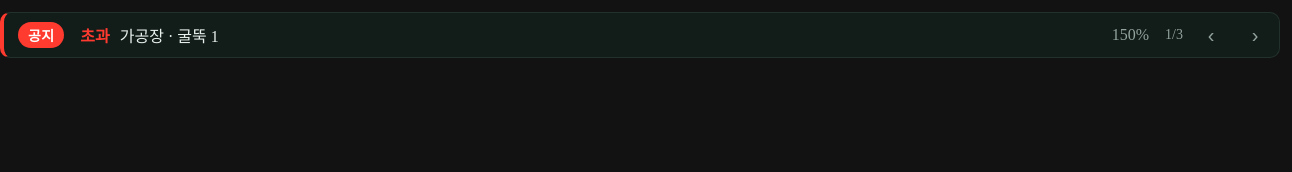
Test: 롤링 배너 › 움직임 줄이기 설정에서는 굴리지 않고 ‹ › 로 넘긴다
Expected: the button "초과 가공장 · 굴뚝 1 150%" is shown, [76,13,1153,57]
Expected: the button "나공장" is not shown
Click the button named "다음 공지": [1255, 35] box [1239,19,1271,51]
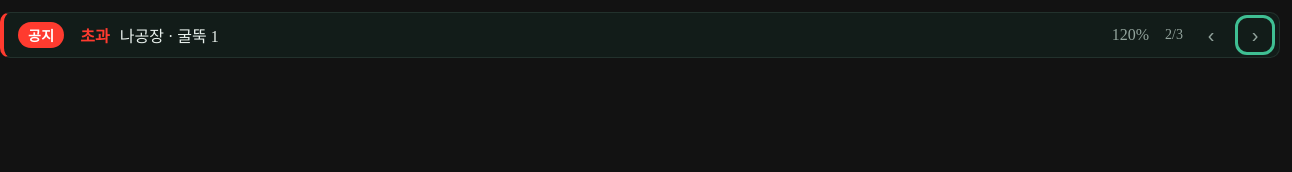
Result: the button "초과 나공장 · 굴뚝 1 120%" is shown at [76,13,1153,57]
Click the button named "이전 공지": [1211, 35] box [1195,19,1227,51]
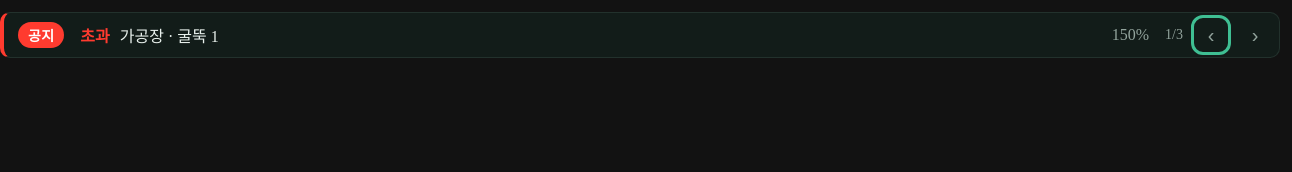
Click the button named "이전 공지": [1211, 35] box [1195,19,1227,51]
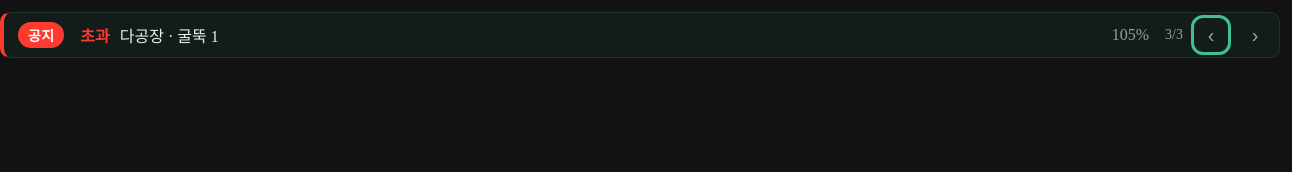
Result: the button "초과 다공장 · 굴뚝 1 105%" is shown at [76,13,1153,57]
